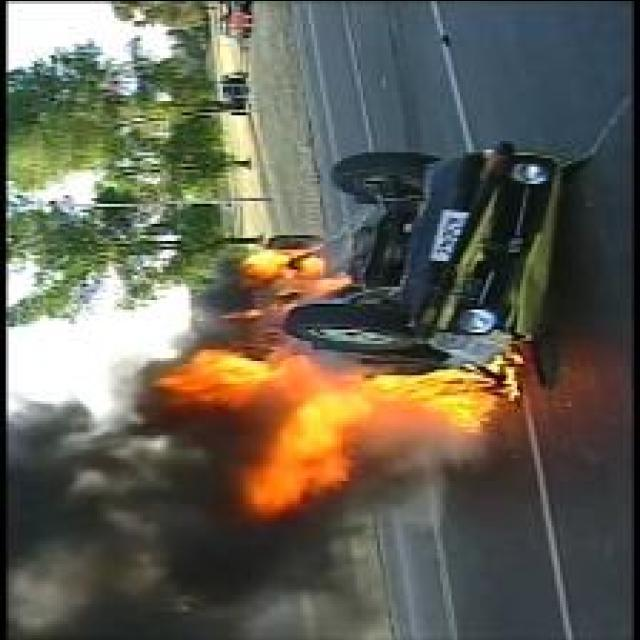Fire: (156, 347, 524, 513), (243, 243, 351, 297)
